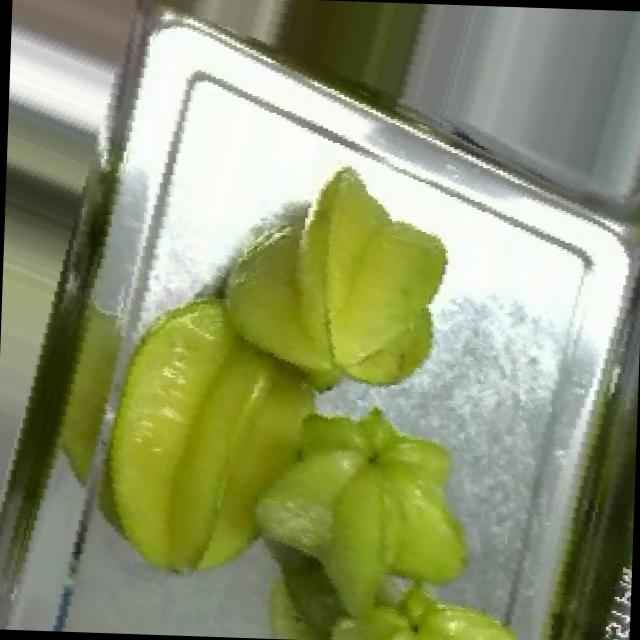fruit: (57, 247, 379, 616), (178, 139, 477, 417), (244, 0, 502, 154), (291, 577, 566, 640), (8, 0, 217, 76)
